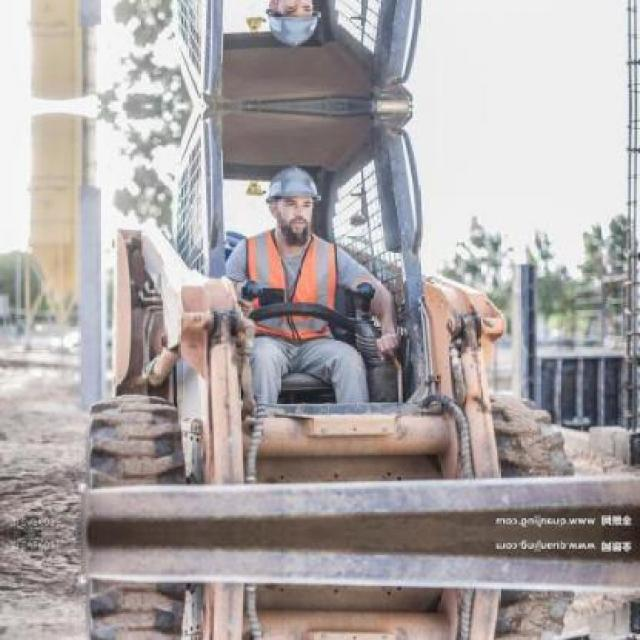Reflective-Jacket: (229, 225, 362, 338)
Safety-Helmet: (254, 159, 326, 211)
